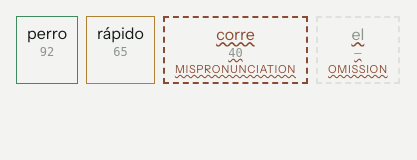
Test case: PronunciationHeatmap › shows a fallback for a word with empty phonemes
Click the button with aria-label "rápido, 65".
click(120, 50)  # box [86, 16, 155, 84]
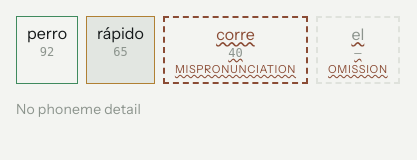
Now the list item "No phoneme detail" is shown, box [16, 96, 141, 122]
